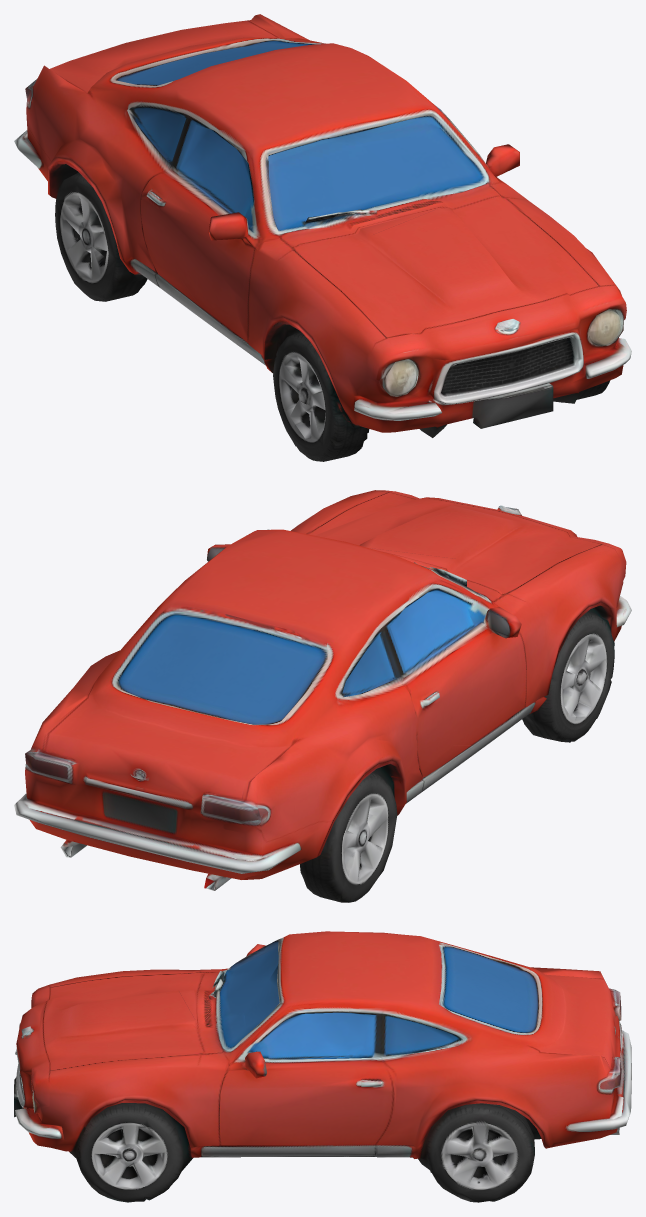
Rendered from car.glb.
3 views of the same model, one above another, from view 1: azimuth 30°, elevation 25°; view 2: azimuth 150°, elevation 25°; view 3: azimuth 270°, elevation 25° (orthographic). The views are drawn at different scales.
Parts seen in each view (by area): view 1: tripo_node_944825ff-0508-41a7-a1cb-b04cb524fe8e; view 2: tripo_node_944825ff-0508-41a7-a1cb-b04cb524fe8e; view 3: tripo_node_944825ff-0508-41a7-a1cb-b04cb524fe8e.
Boxes of the visible parts, x1=… form: tripo_node_944825ff-0508-41a7-a1cb-b04cb524fe8e: x1=14, y1=14, x2=631, y2=461; tripo_node_944825ff-0508-41a7-a1cb-b04cb524fe8e: x1=14, y1=490, x2=631, y2=902; tripo_node_944825ff-0508-41a7-a1cb-b04cb524fe8e: x1=14, y1=931, x2=631, y2=1202.
Size of the model in its own units: 0.4662 by 0.3395 by 1.
1 material, 1 textured.
